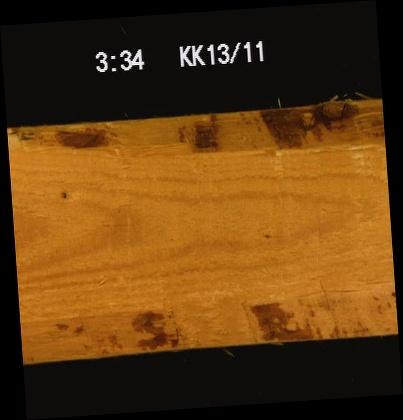small_knot: (59, 188, 67, 200)
wave: (20, 294, 395, 349), (8, 112, 383, 160)
